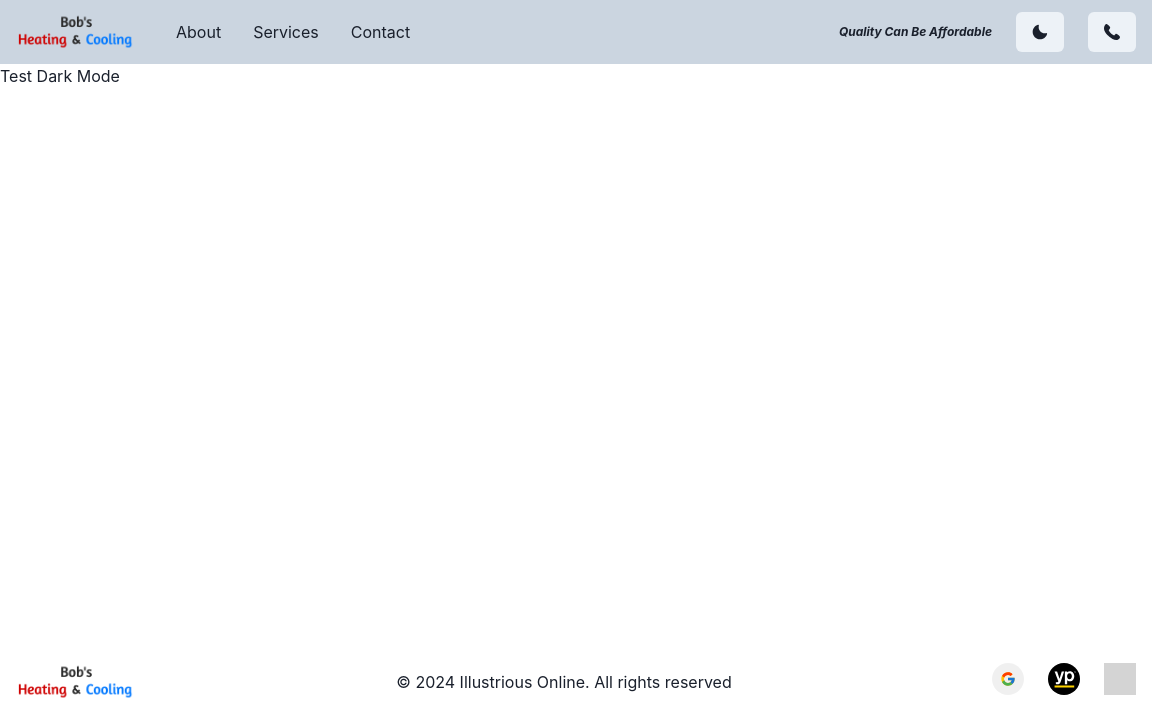
Home › renders Wrapper and toggles dark mode
Expected: the icon with test id "moon" is shown, [1032, 24, 1048, 40]
Click the button with test id "themeToggle". click: point(1040, 32)
box: [1016, 12, 1064, 52]
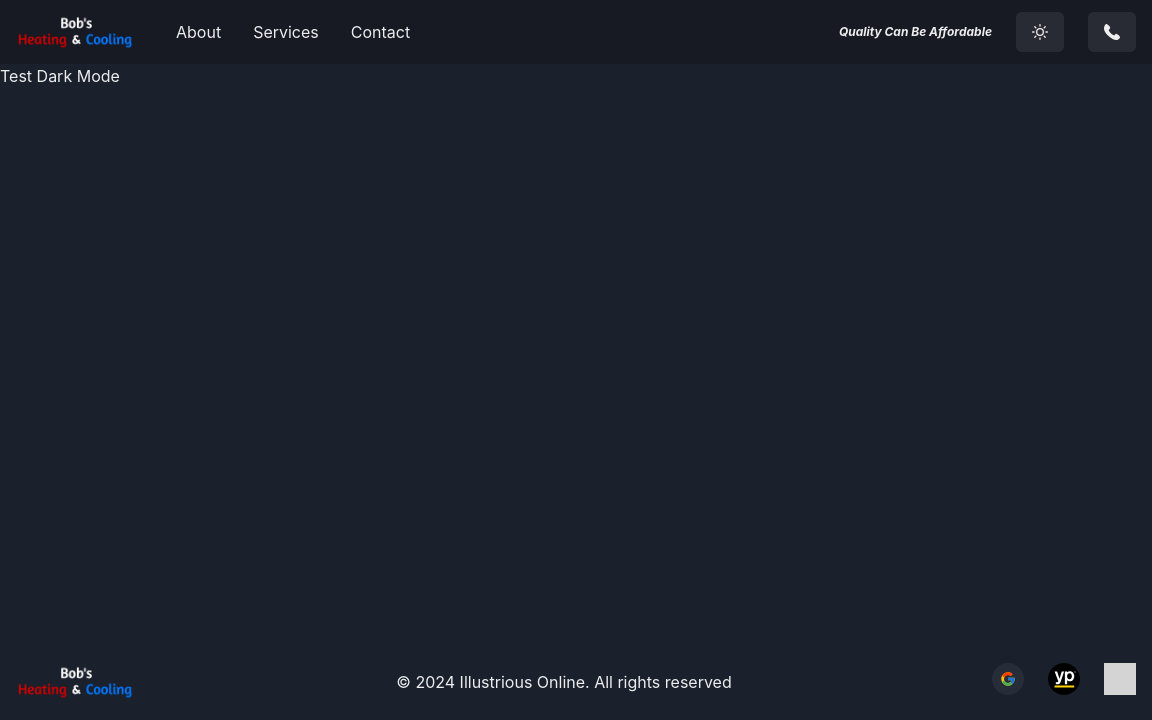
Expected: the icon with test id "sun" is shown, [1032, 24, 1048, 40]
Click the button with test id "themeToggle". click: point(1040, 32)
box: [1016, 12, 1064, 52]
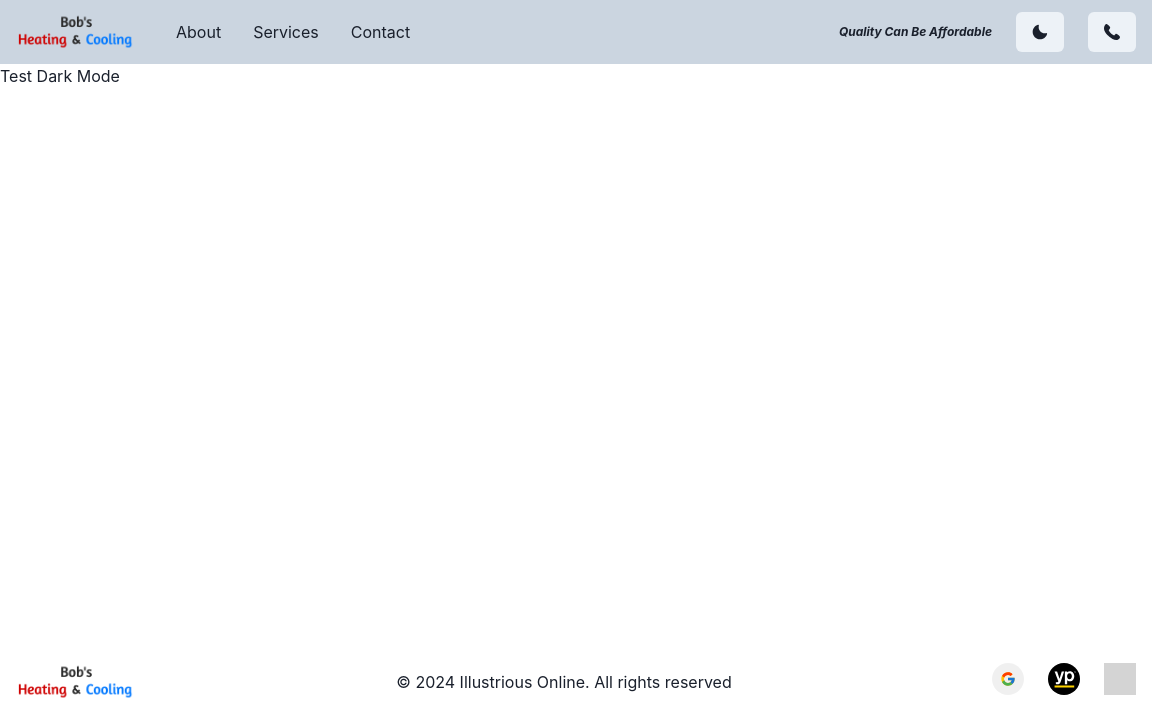
Expected: the icon with test id "moon" is shown, [1032, 24, 1048, 40]
